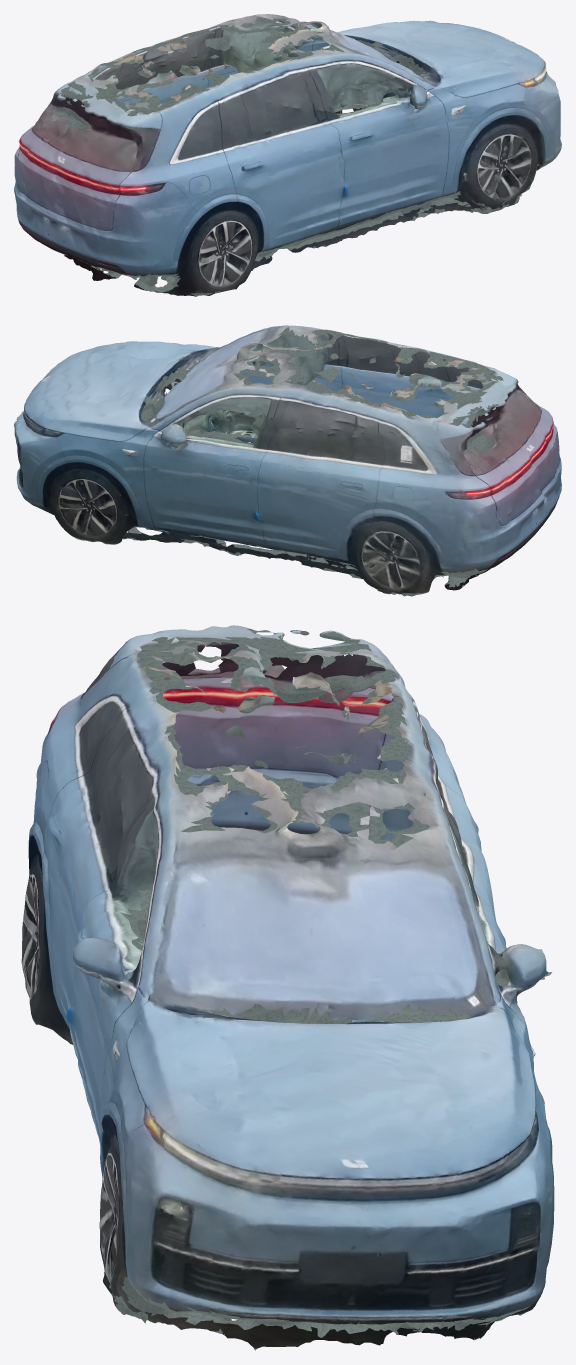
File: lil7.glb
3 views of the same model, one above another, from view 1: azimuth 30°, elevation 25°; view 2: azimuth 150°, elevation 25°; view 3: azimuth 270°, elevation 25° (orthographic). The views are drawn at different scales.
Parts seen in each view (by area): view 1: Object_3, Object_4, Object_7, Object_5, Object_6, Object_8, Object_9, Object_10, Object_11, Object_12, Object_13, Object_2 (+7 smaller); view 2: Object_3, Object_4, Object_5, Object_6, Object_7, Object_8, Object_10, Object_9, Object_12, Object_11, Object_13, Object_2 (+7 smaller); view 3: Object_3, Object_4, Object_7, Object_8, Object_5, Object_6, Object_9, Object_10, Object_11, Object_12, Object_13, Object_2 (+7 smaller).
Part boxes in pixels (x1,y1,x2,y2): Object_3: (14,16,560,296); Object_4: (16,14,560,293); Object_7: (22,16,560,285); Object_5: (18,17,561,273); Object_6: (16,16,545,296); Object_8: (14,14,558,295); Object_9: (17,21,560,293); Object_10: (33,14,561,280); Object_11: (36,15,560,293); Object_12: (16,16,561,269); Object_13: (16,15,548,268); Object_2: (54,25,557,292); Object_3: (17,325,561,596); Object_4: (15,326,560,592); Object_5: (15,331,561,585); Object_6: (16,326,561,593); Object_7: (17,328,561,592); Object_8: (14,331,559,593); Object_10: (14,334,559,593); Object_9: (15,327,558,593); Object_12: (14,330,523,593); Object_11: (17,325,546,593); Object_13: (14,327,557,592); Object_2: (34,345,495,587); Object_3: (24,625,554,1350); Object_4: (21,625,553,1324); Object_7: (32,631,542,1323); Object_8: (22,630,550,1335); Object_5: (25,633,551,1348); Object_6: (30,629,554,1347); Object_9: (28,631,548,1335); Object_10: (26,629,551,1333); Object_11: (28,642,540,1338); Object_12: (31,632,548,1335); Object_13: (29,633,548,1339); Object_2: (68,652,530,1339).
Bounding box in the file's own units: 4.19 × 1.55 × 2.01.
Materials: 19 (19 with a texture image).
